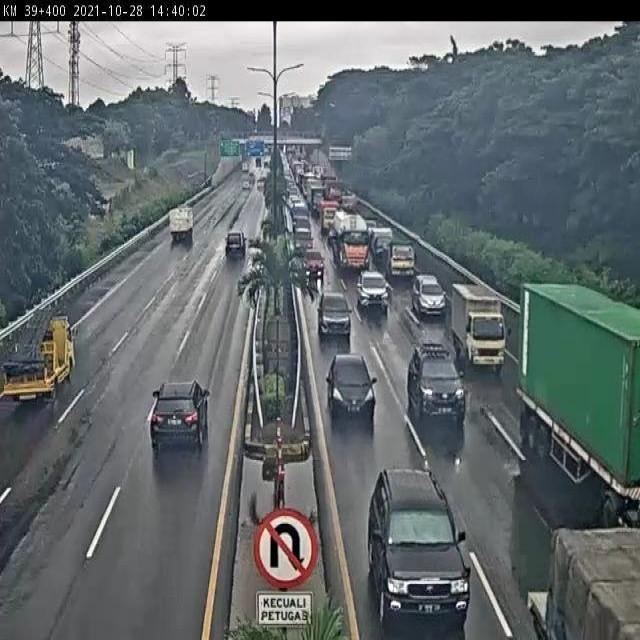big truck: (329, 209, 370, 275)
car: (364, 466, 473, 622), (405, 340, 469, 420), (146, 380, 212, 451), (326, 352, 378, 420), (409, 272, 448, 317), (318, 292, 353, 337), (358, 272, 391, 312), (371, 228, 396, 260), (302, 248, 326, 279), (225, 228, 247, 256)
small truck: (0, 308, 77, 409), (446, 282, 507, 369), (387, 242, 418, 282), (168, 204, 195, 243)
